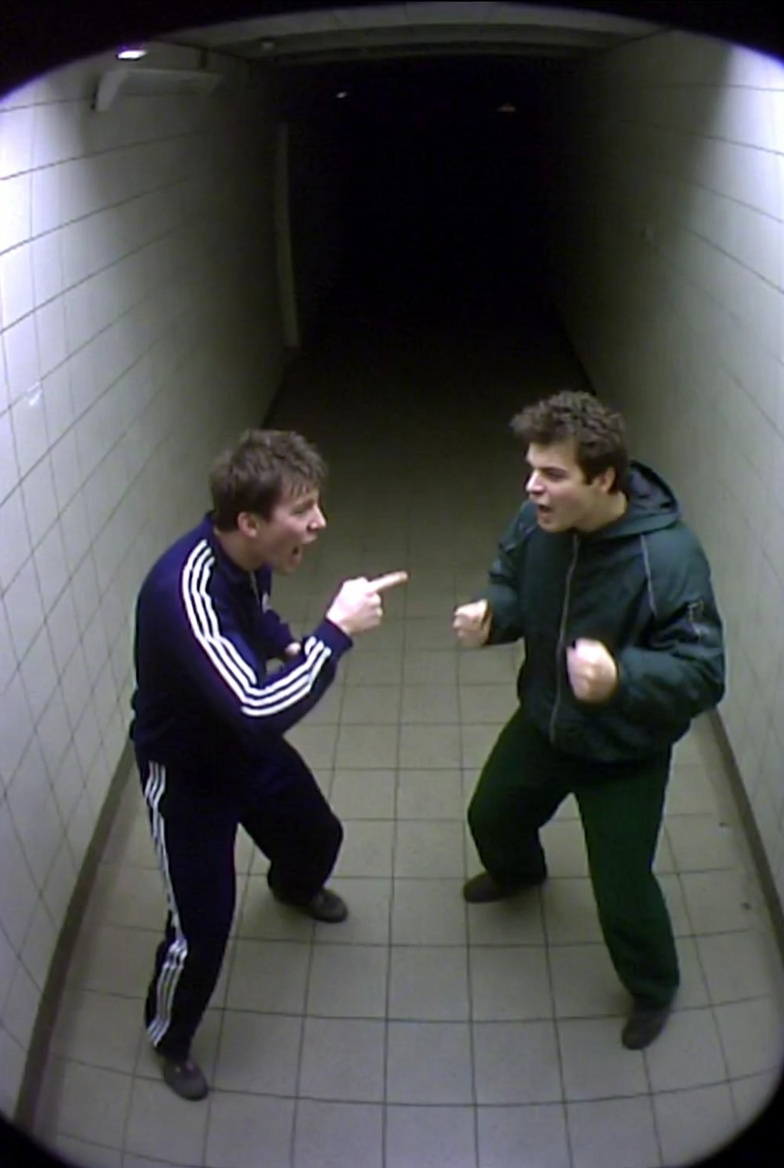Assault: (130, 428, 395, 1103)
Fighting: (450, 389, 729, 1053)
